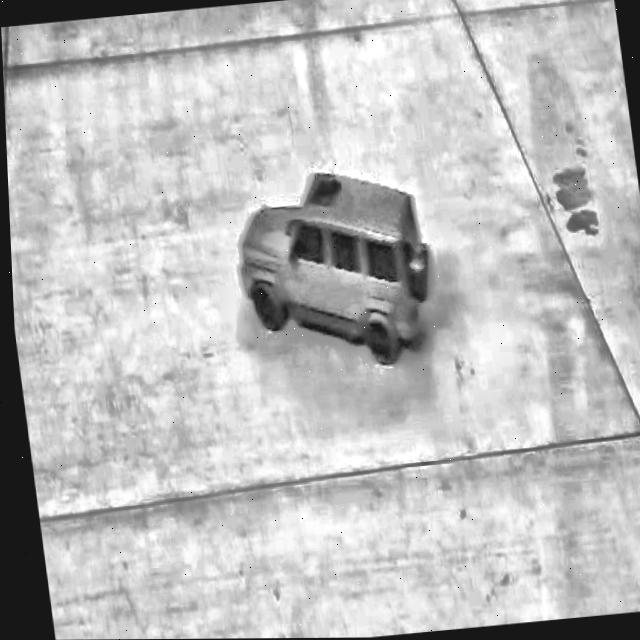light_vehicle: (222, 150, 441, 378)
